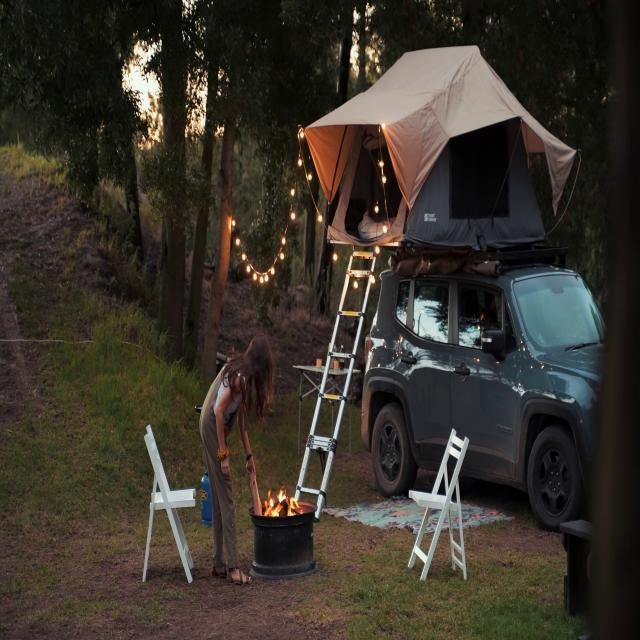Fire: (264, 478, 306, 520)
